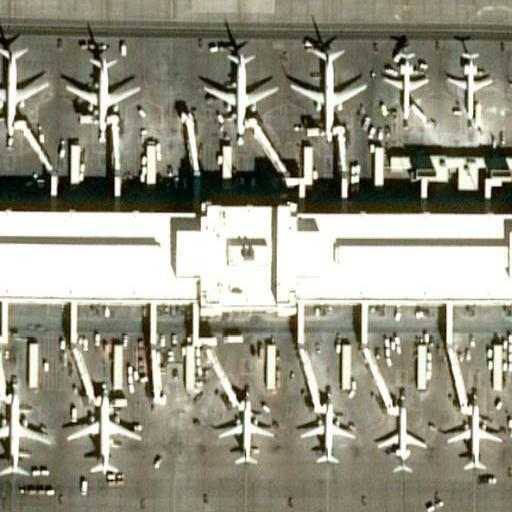Aircraft: (291, 40, 362, 144), (203, 42, 277, 140), (68, 391, 142, 482), (67, 47, 142, 135), (0, 386, 50, 492), (298, 402, 360, 472), (0, 41, 45, 137), (218, 402, 278, 466), (375, 403, 428, 475), (449, 406, 502, 468), (446, 49, 489, 124), (385, 53, 426, 119)
